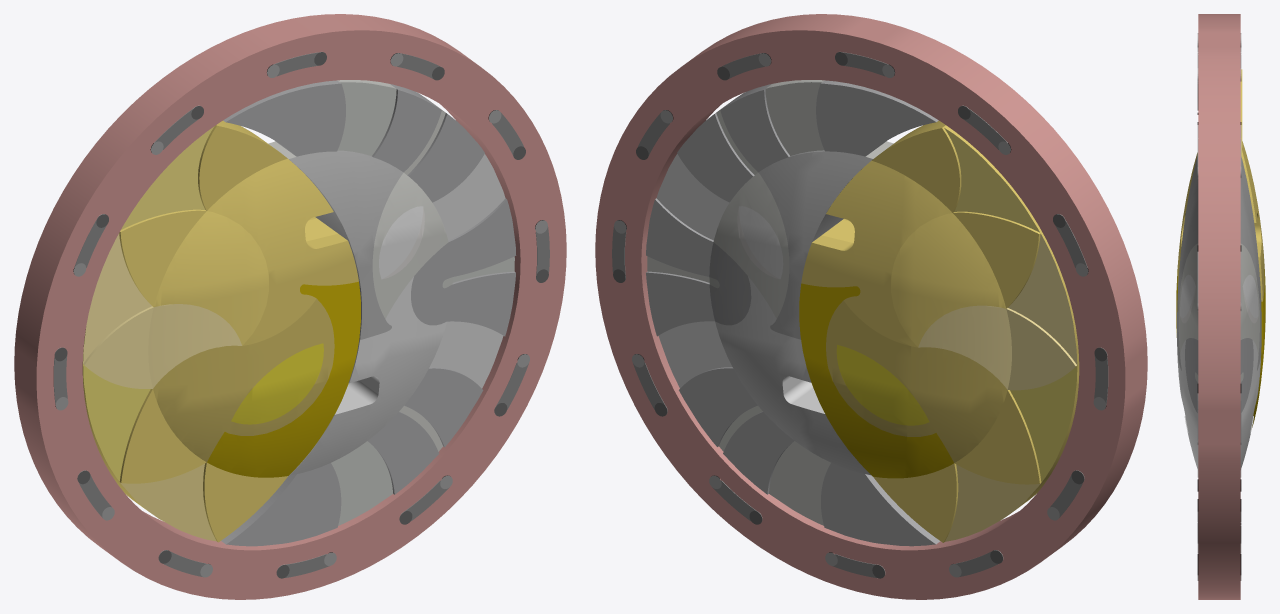
File: sunmoonstar2025dd.glb
The picture shows the model from 3 angles, left to right: view 1: azimuth 30°, elevation 25°; view 2: azimuth 150°, elevation 25°; view 3: azimuth 270°, elevation 25°; orthographic projection. The views are drawn at different scales.
Visible parts, largest first — view 1: Group3, Group2, Group1; view 2: Group3, Group2, Group1; view 3: Group3, Group1, Group2.
Boxes of the visible parts, x1,y1,x2,y2 form: Group3: (14,14,566,599); Group2: (82,120,360,542); Group1: (221,80,516,546); Group3: (595,14,1147,599); Group2: (799,120,1079,542); Group1: (646,80,940,546); Group3: (1197,14,1241,599); Group1: (1177,155,1261,470); Group2: (1176,69,1265,427).
Bounding box in the file's own units: 333 × 333 × 50.99.
